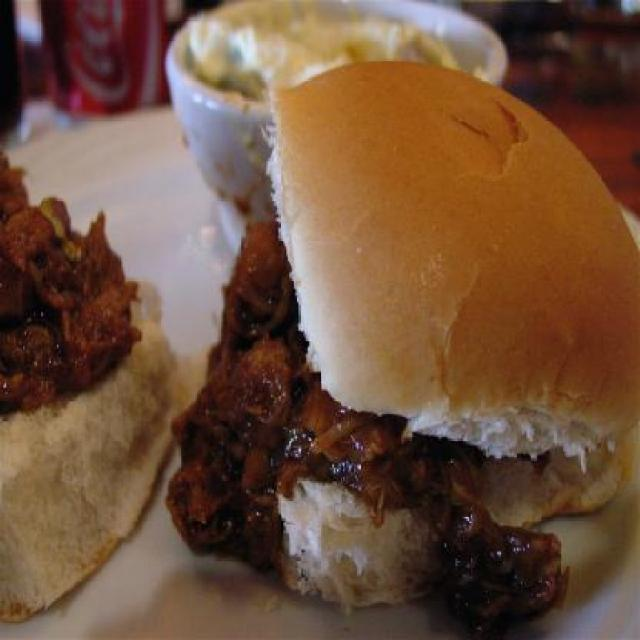Hamburger: (170, 61, 639, 640)
